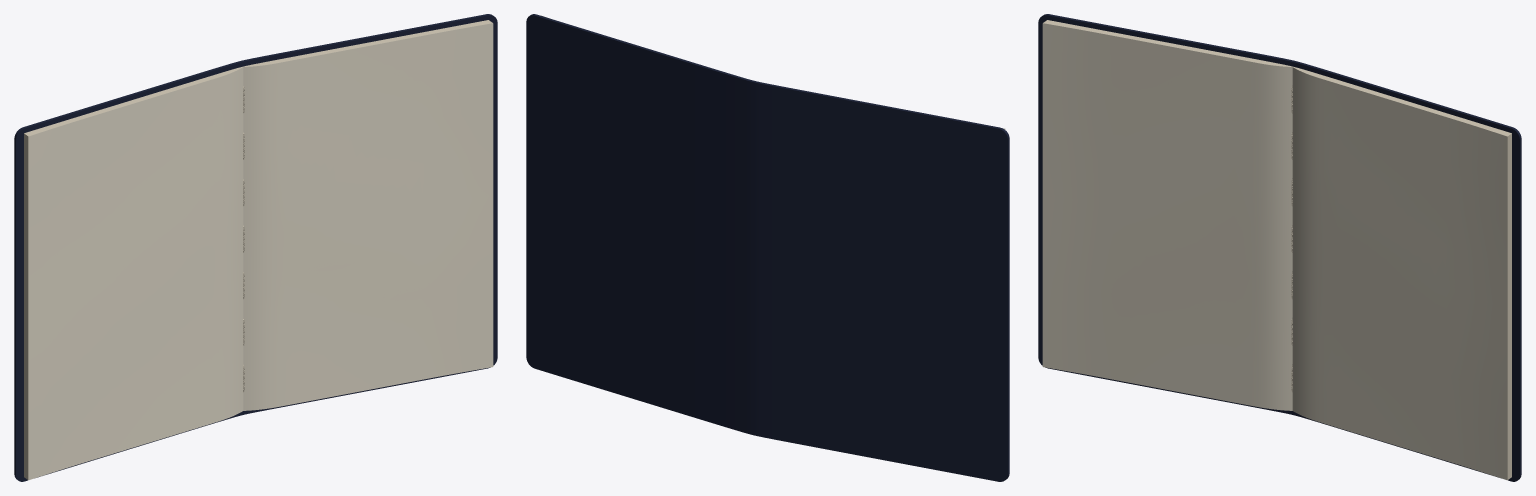
The model's file is Passport_Open.fbx.
3 views of the same model, side by side, from view 1: azimuth 30°, elevation 25°; view 2: azimuth 150°, elevation 25°; view 3: azimuth 330°, elevation 25° (orthographic).
Visible parts, largest first — view 1: PageRight, PageLeft, Covers, StackLeft, StackRight; view 2: Covers; view 3: PageLeft, PageRight, Covers, StackRight, StackLeft.
Part boxes in pixels (box(x1,y1,x2,y2)): PageRight: box(243, 23, 493, 410); PageLeft: box(28, 67, 243, 479); Covers: box(14, 14, 497, 481); StackLeft: box(24, 66, 242, 480); StackRight: box(243, 20, 492, 66); Covers: box(526, 14, 1009, 481); PageLeft: box(1042, 23, 1292, 410); PageRight: box(1292, 67, 1507, 479); Covers: box(1038, 14, 1521, 481); StackRight: box(1293, 66, 1511, 480); StackLeft: box(1043, 20, 1292, 66).
Size of the model in its own units: 0.217 by 0.152 by 0.0155.
